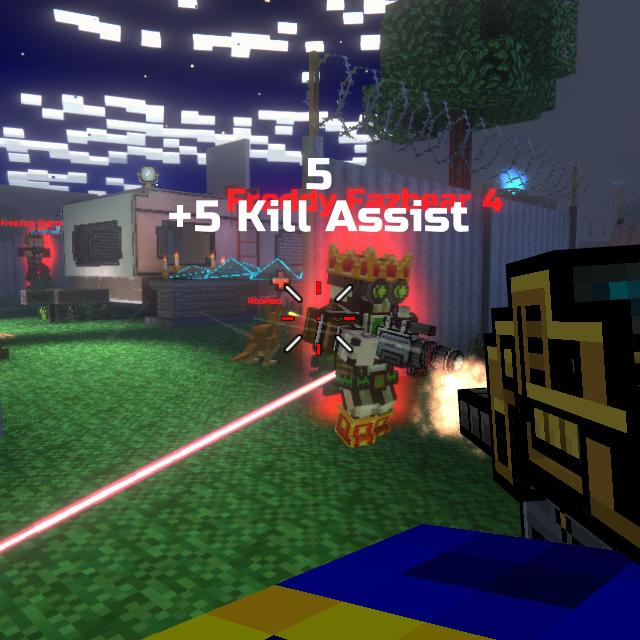Enemy: (304, 250, 434, 447), (20, 233, 51, 281)
